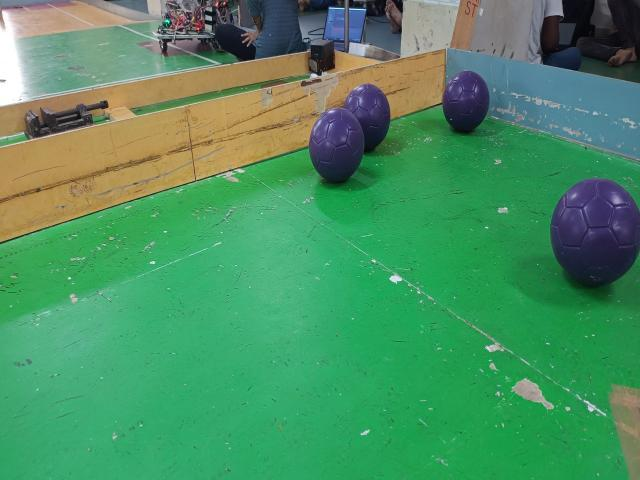jambhalya: (550, 178, 640, 287), (309, 108, 365, 182), (344, 83, 390, 152), (442, 70, 490, 132)
